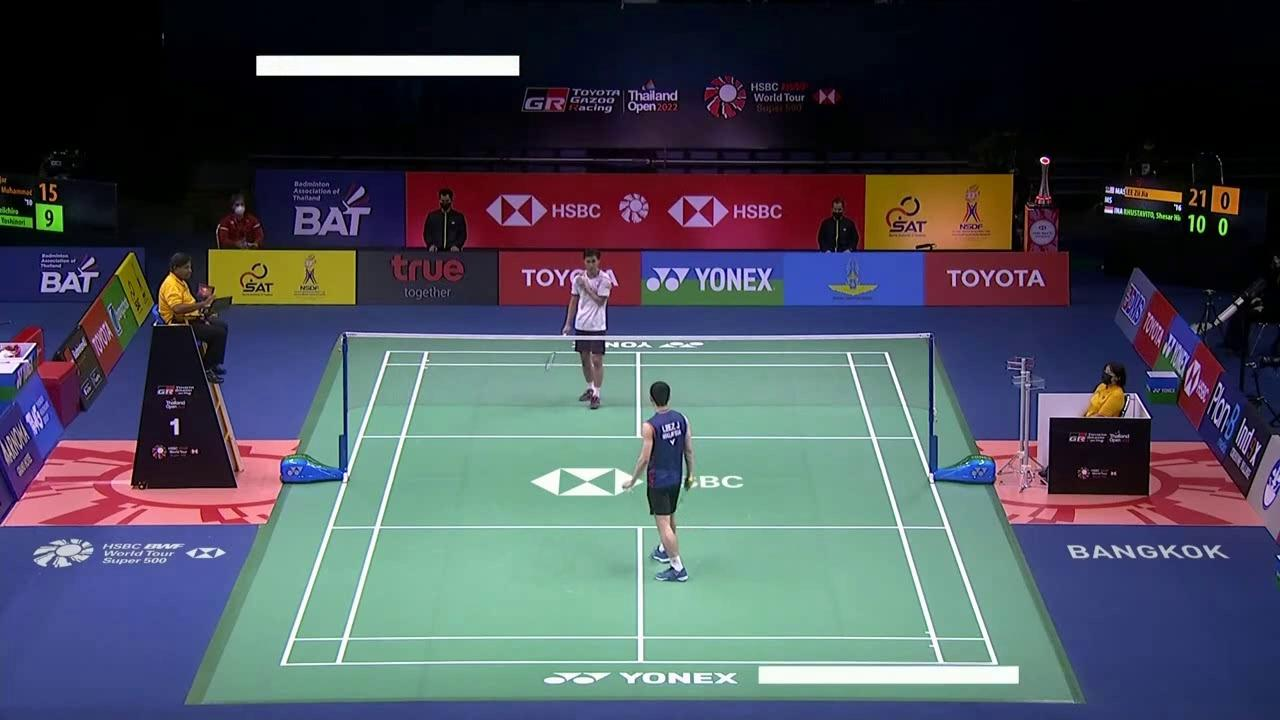racket: (545, 329, 567, 370), (674, 477, 693, 514)
shuttle: (622, 483, 635, 494)
